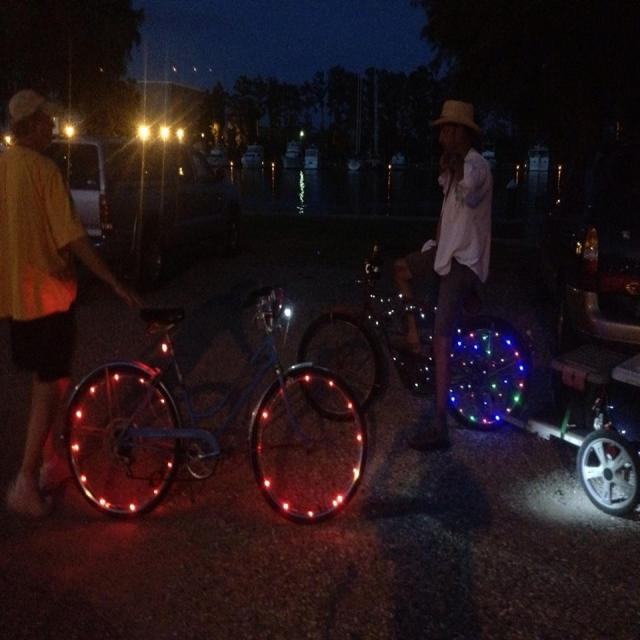Bicycle: (51, 284, 378, 537), (356, 266, 525, 441)
People: (0, 69, 77, 433), (423, 93, 493, 283)
